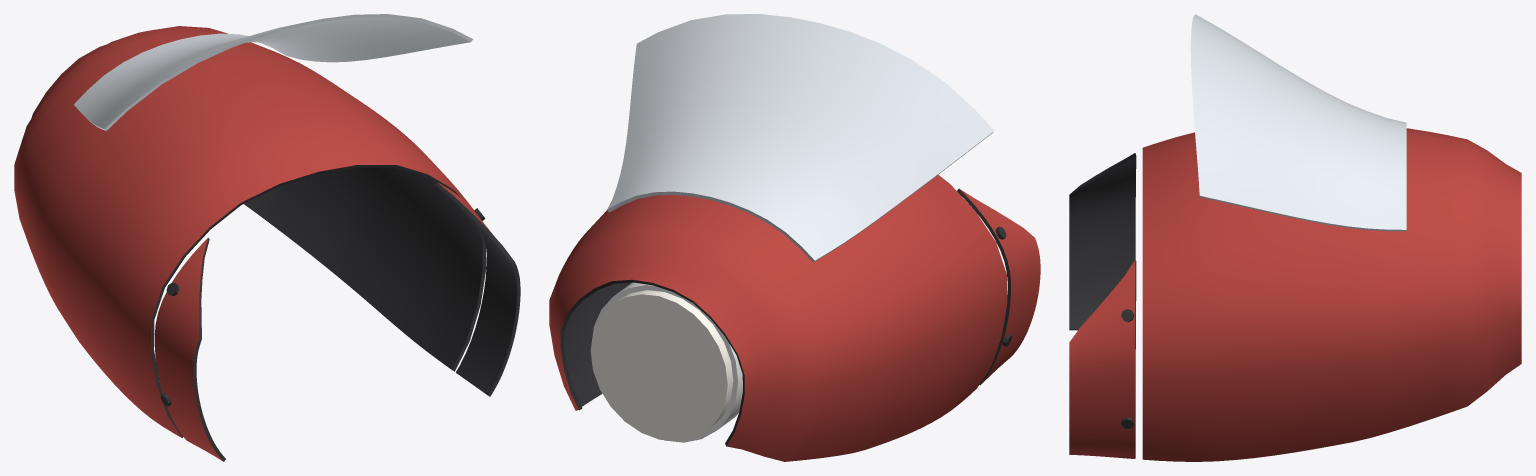
Rendered from seeley.glb.
3 renders of one model, left to right at view 1: azimuth 30°, elevation 25°; view 2: azimuth 150°, elevation 25°; view 3: azimuth 270°, elevation 25°, orthographic. The views are drawn at different scales.
Visible parts, largest first — view 1: lod0; view 2: lod0; view 3: lod0.
Boxes of the visible parts, <box> form: lod0: <box>14,14,520,461</box>; lod0: <box>549,14,1040,461</box>; lod0: <box>1069,14,1521,461</box>.
Size of what is drawn, in the model's own units: 0.4437 by 0.4176 by 0.492.
